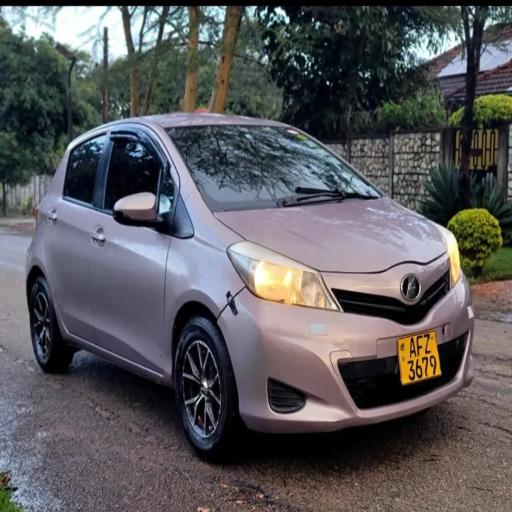number-plates: (397, 336, 447, 382)
